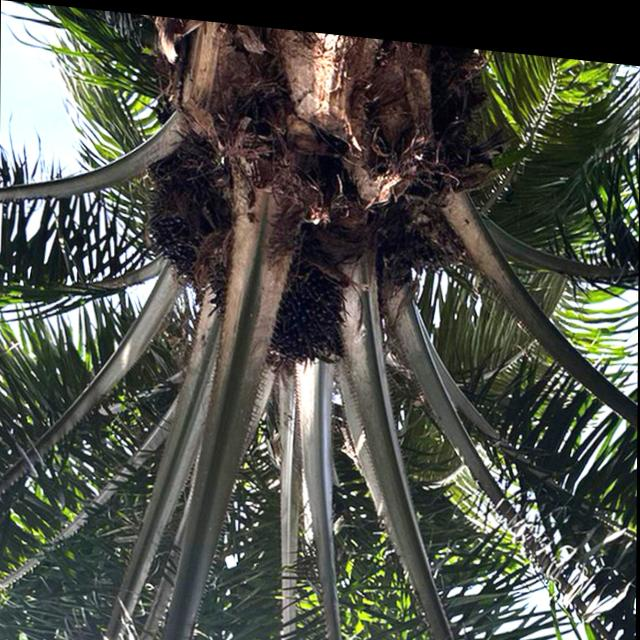unripe: (141, 125, 236, 288), (263, 235, 356, 372)
